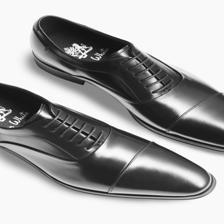Hand: (110, 41, 206, 196), (11, 48, 116, 187)
